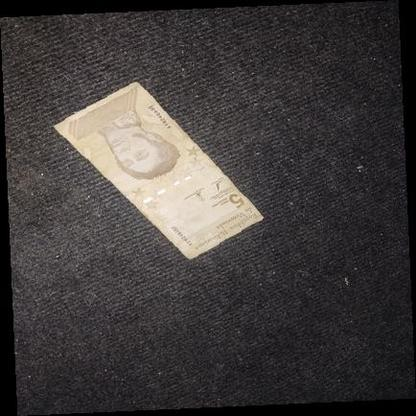five-front-vef: (52, 80, 264, 260)
